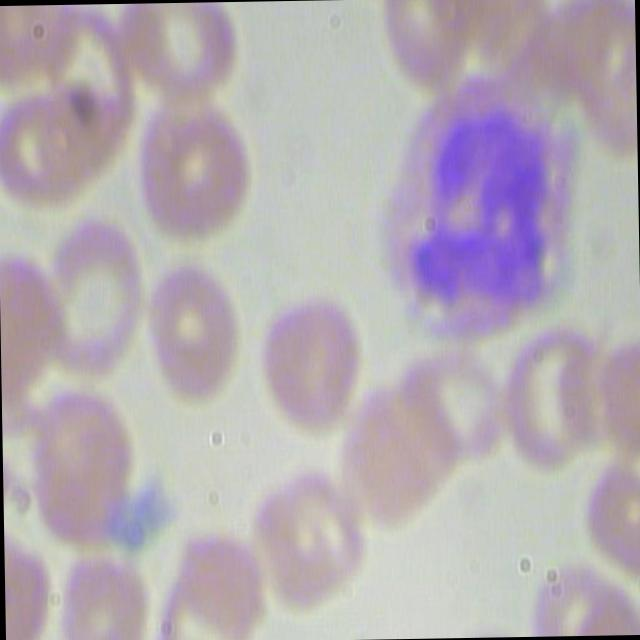WBC: (358, 72, 596, 350)
